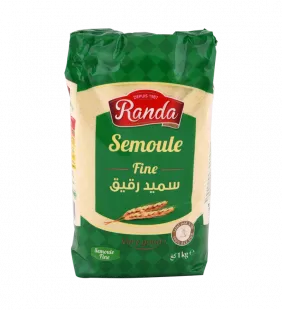RANDA: (59, 20, 227, 284)
